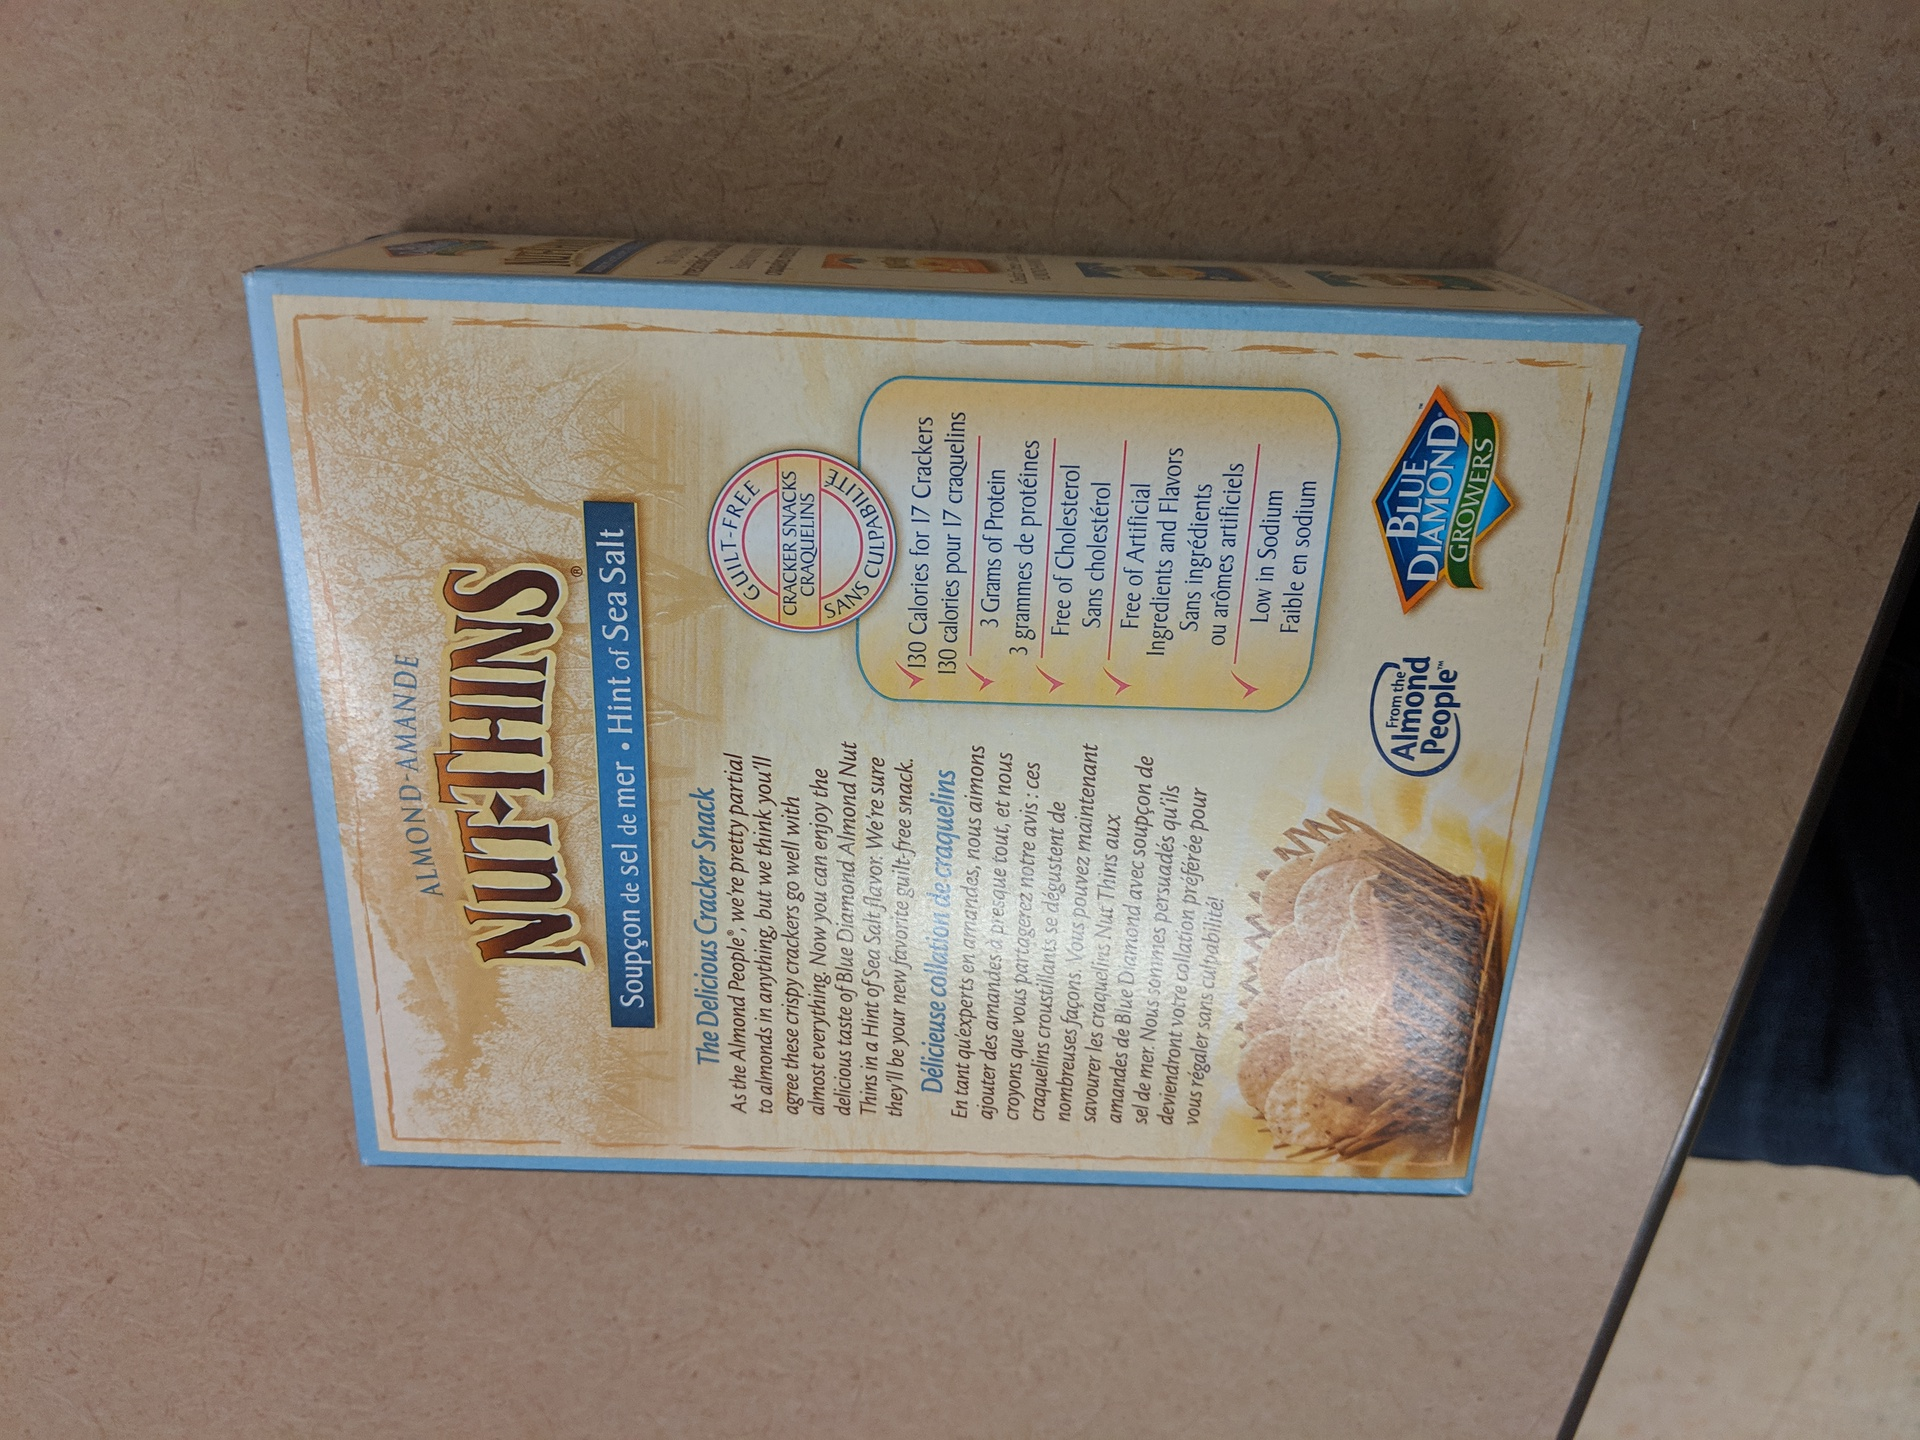blue_diamond_nut_thins_almond_seasalt: (237, 237, 1640, 1210)
